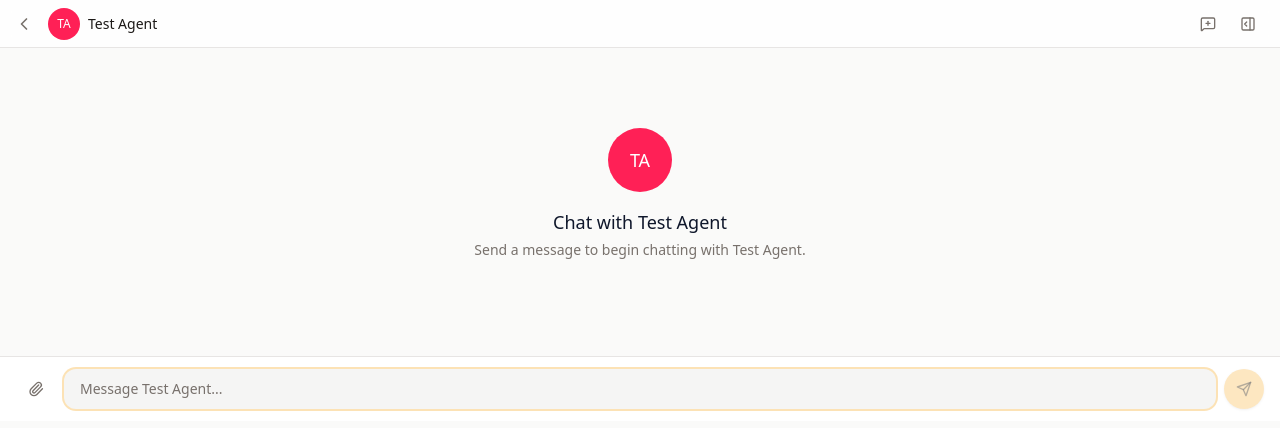
WorkforceThread – Attachment Features › Error handling › reports a failed send as an error, not as something the agent said
The width and height of the screenshot is (1280, 428).
Expected: the text "Test Agent" is shown, left=88, top=14, right=157, bottom=34
Type "Will fail" into the text box with placeholder "Message Test Agent...".
click(640, 389); type("Will fail")  # box left=64, top=369, right=1216, bottom=409
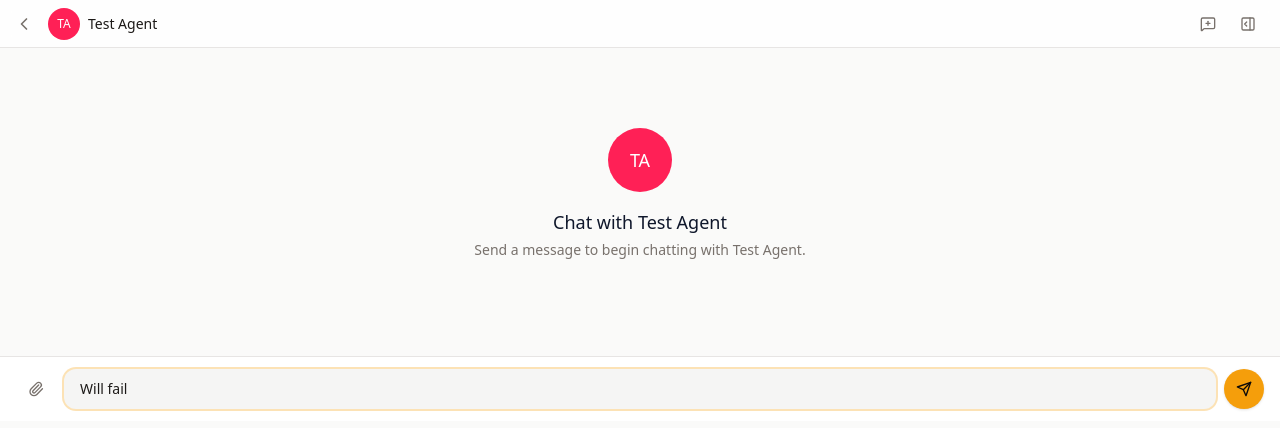
Click the button named "Send".
click(1244, 389)  # box left=1224, top=369, right=1264, bottom=409
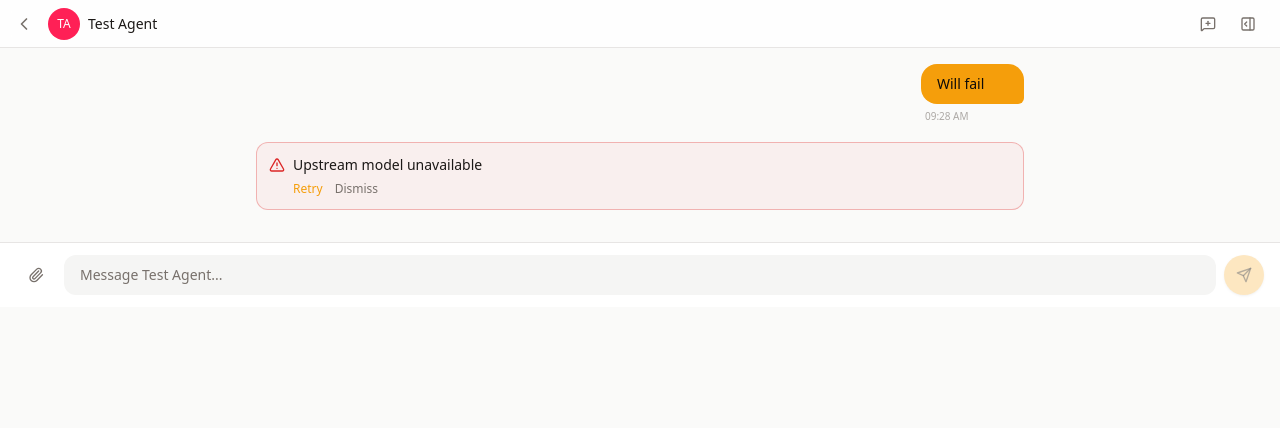
Result: the message with test id "thread-send-error" shows "Upstream model unavailable" at left=293, top=155, right=482, bottom=174
